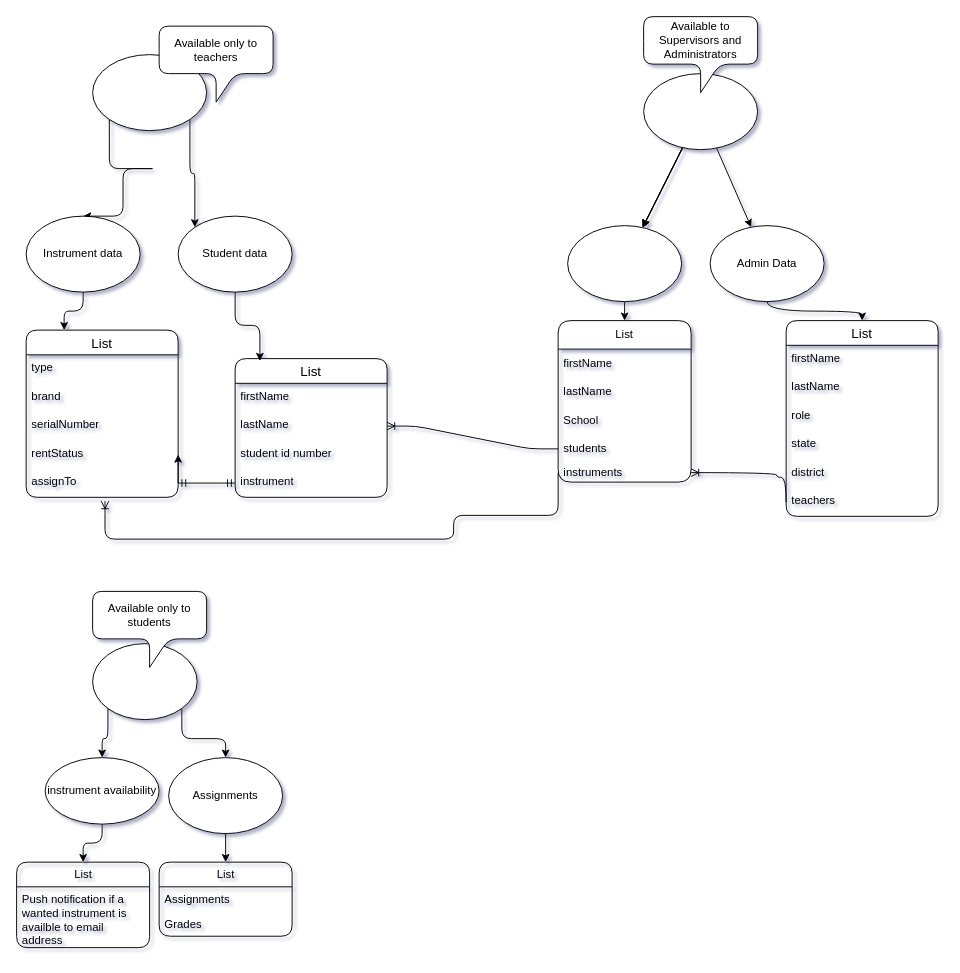
This 960x973 diagram has some shape labels left out. The centre of each missing label's shape, as x and y in pixels:
"Admin dashboard" belongs at point 700,111.
"Student dashBoard" belongs at point 144,681.
"Teacher dashboard" belongs at point 149,92.
"Teacher data" belongs at point 624,263.
